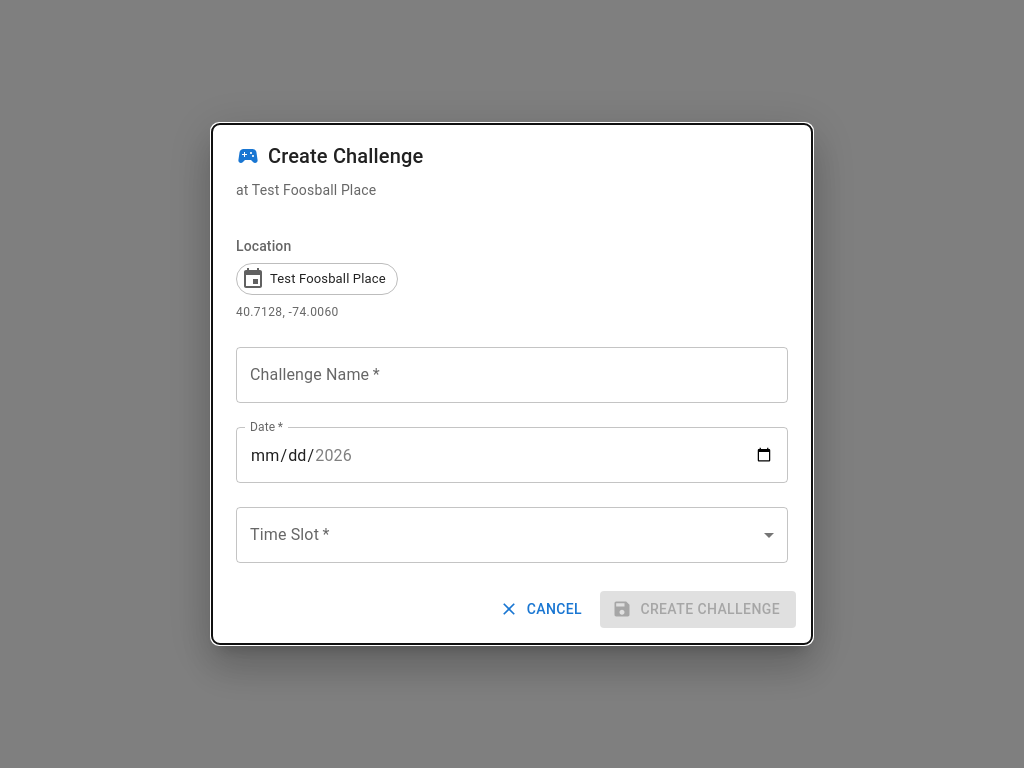
Scenario: ChallengeForm › Form Validation › Challenge Name Validation › should show error for empty challenge name
Click the field labelled "Challenge Name *".
click(512, 375)  # box [236,347,788,403]
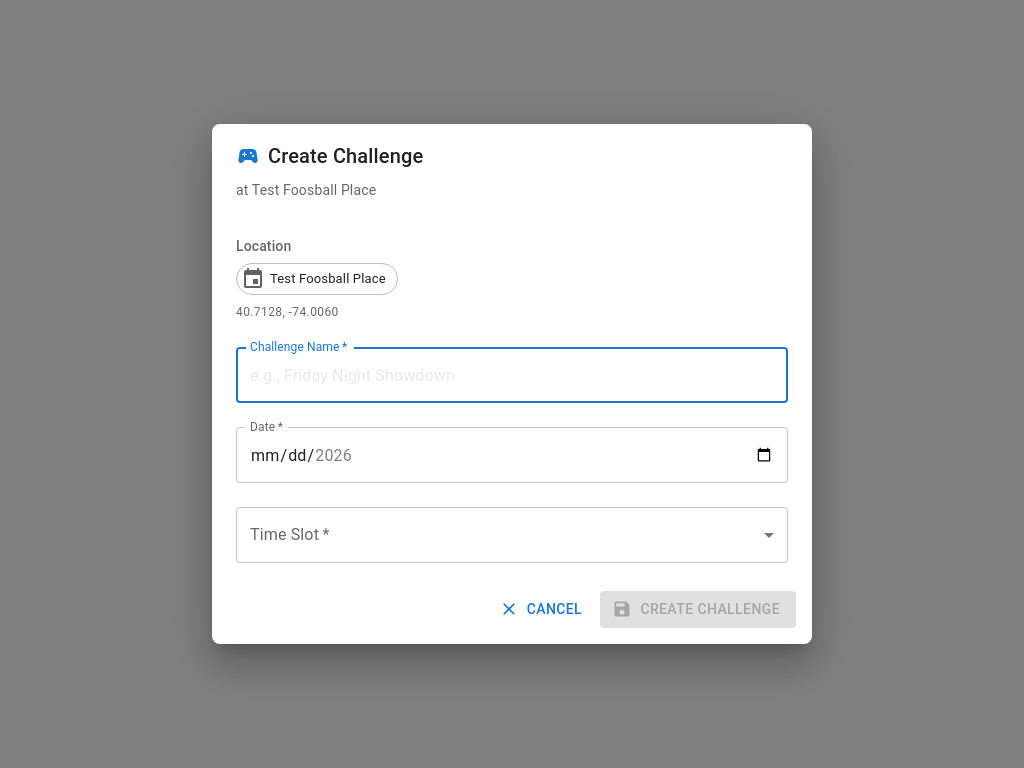
Press Tab
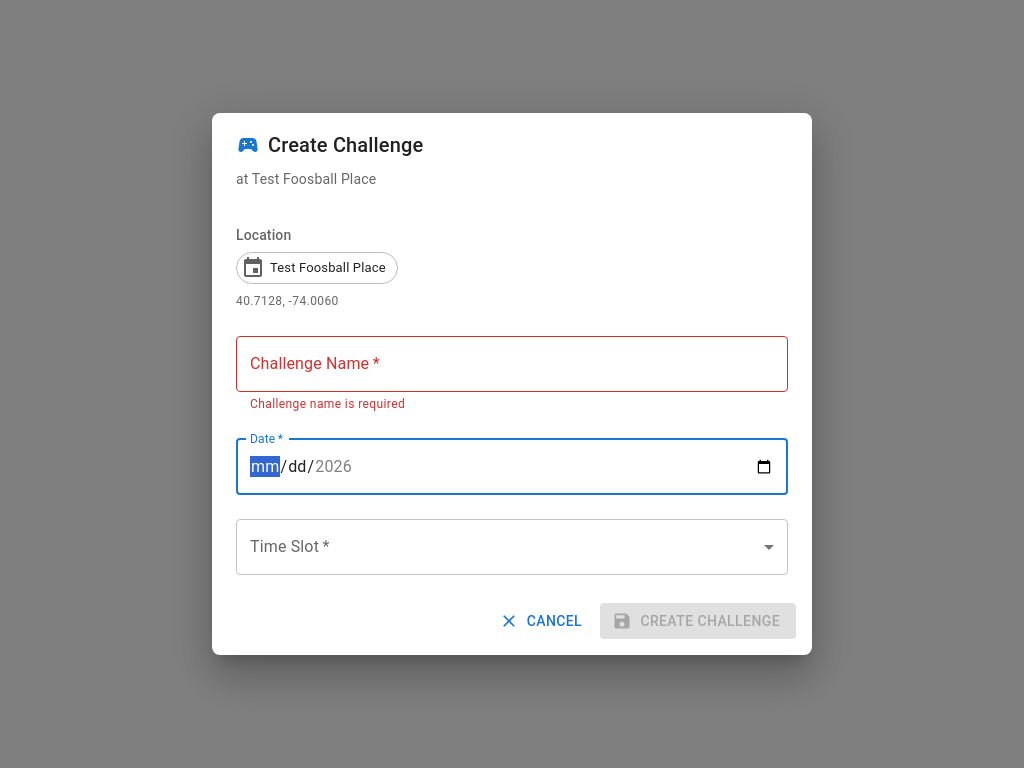
Expected: the text "Challenge name is required" is shown, [250,397,405,411]
